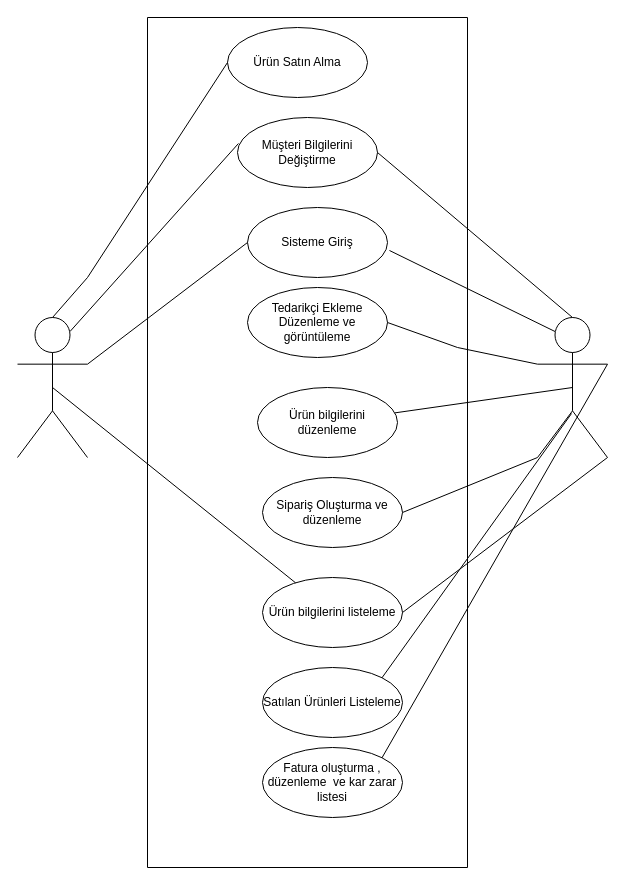
This 626x885 diagram has some shape labels left out. Here are the shapes that lost their labels. From the top down, the box of each, then its label:
(16, 316, 88, 458): Müşteri
(536, 316, 608, 458): Admin
